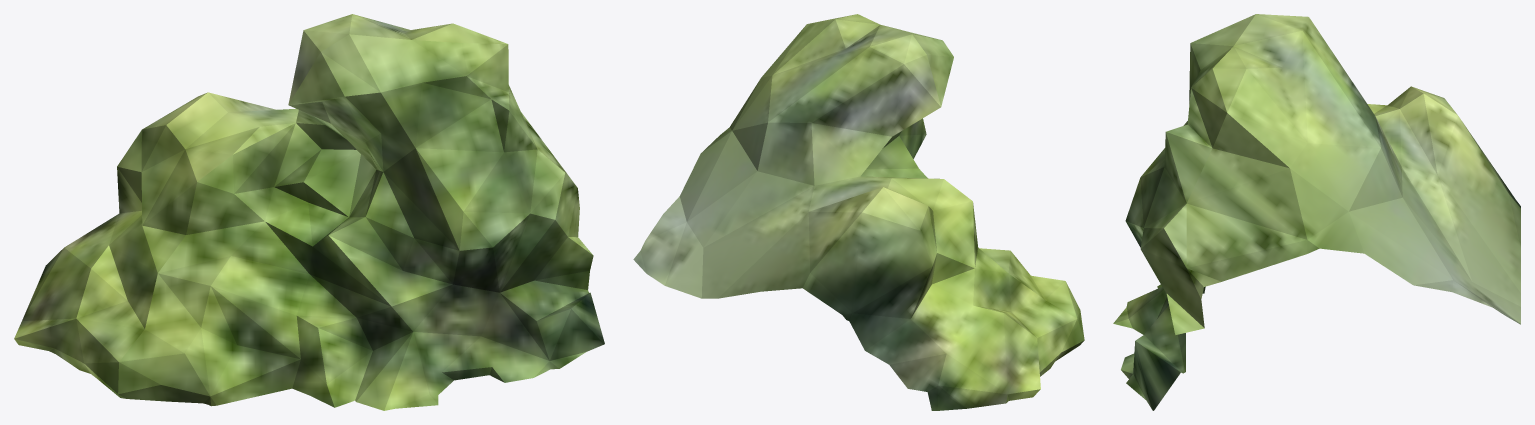
3 views of the same model, side by side, from view 1: azimuth 30°, elevation 25°; view 2: azimuth 150°, elevation 25°; view 3: azimuth 270°, elevation 25° (orthographic). The views are drawn at different scales.
Size of the model in its own units: 8 by 5.44 by 6.63.
Materials: 1 (1 with a texture image).
